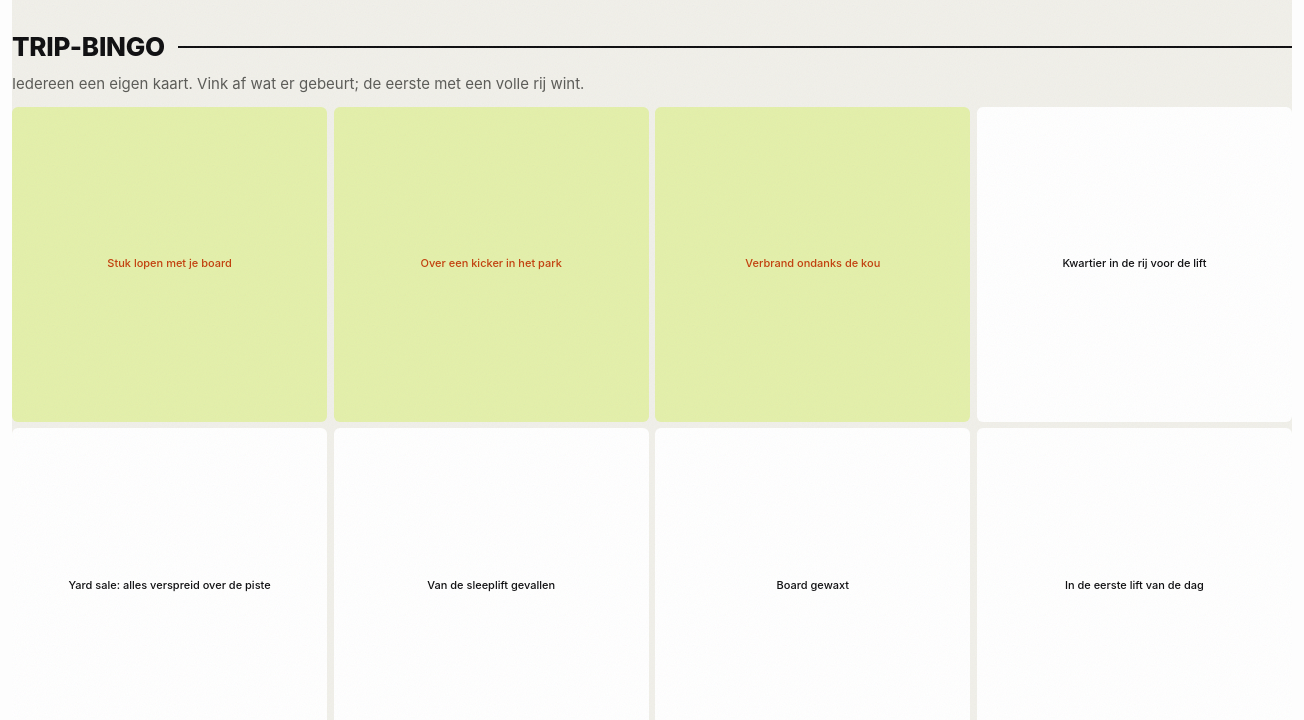
it: trip-bingo › het vierde vakje van een rij: bingo, en jij was de eerste
Click the button "Kwartier in de rij voor de lift": [1134, 264] box left=977, top=106, right=1292, bottom=422
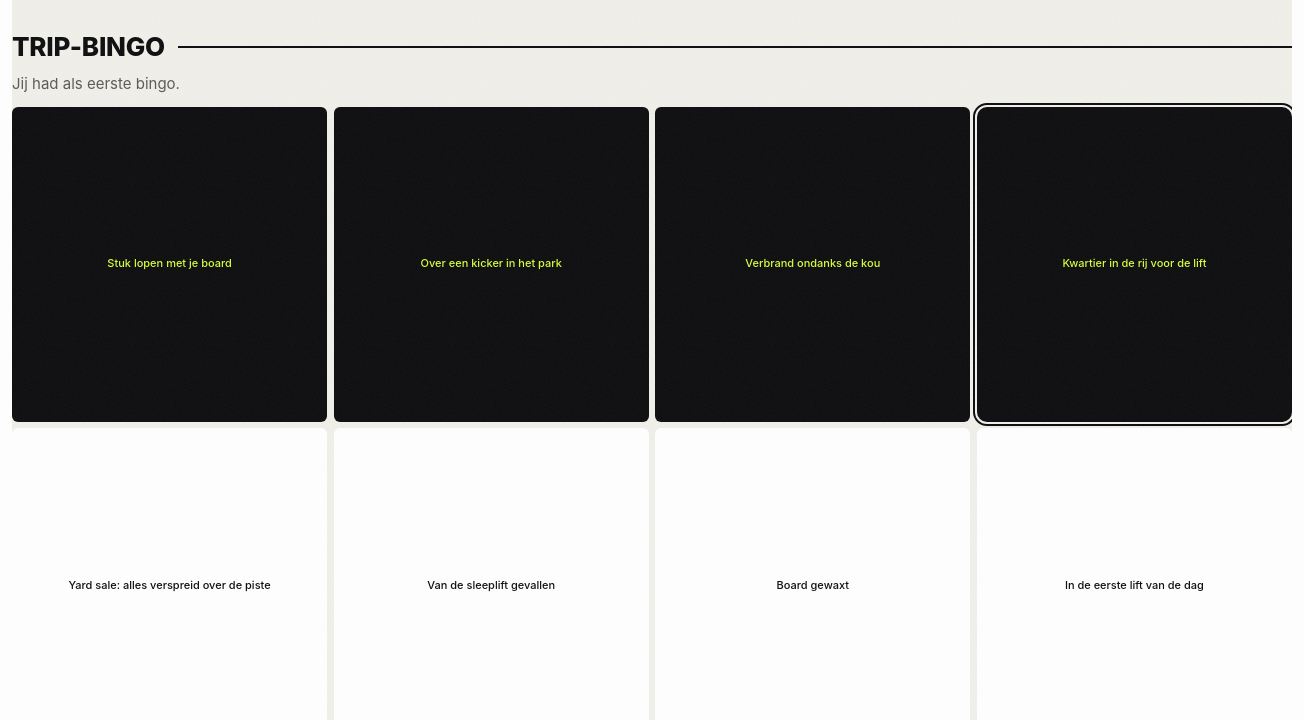
Check: the text "Jij had als eerste bingo." is shown, box left=12, top=74, right=180, bottom=93
